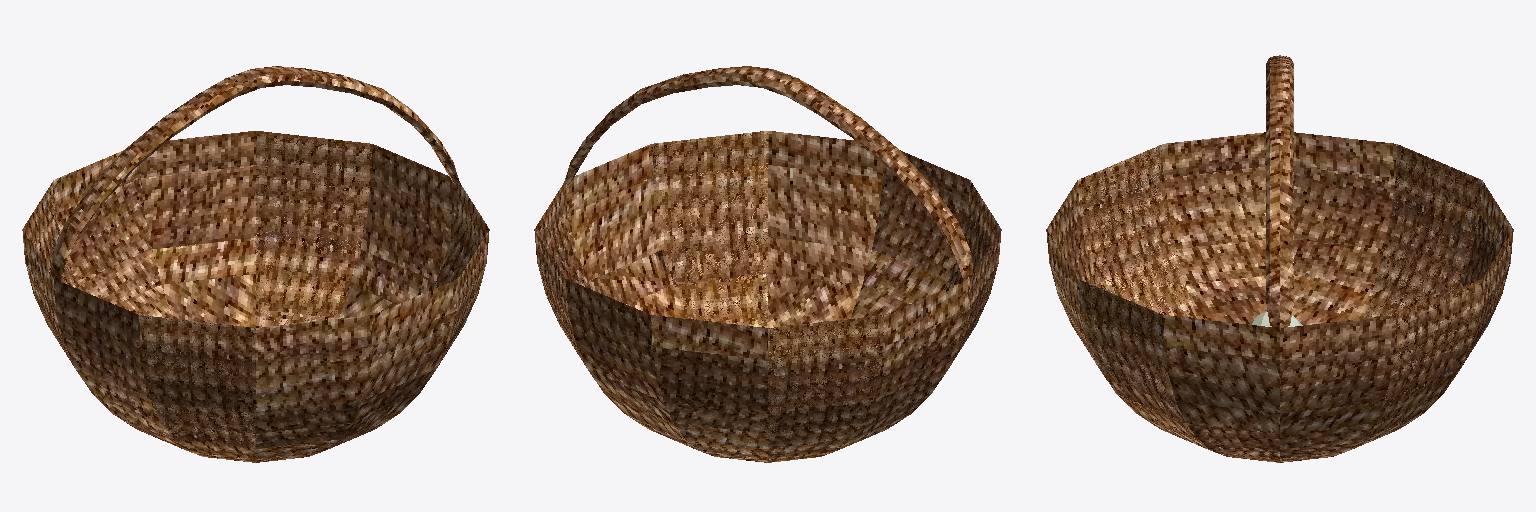
3 renders of one model, left to right at view 1: azimuth 30°, elevation 25°; view 2: azimuth 150°, elevation 25°; view 3: azimuth 270°, elevation 25°, orthographic.
Parts seen in each view (by area): view 1: default; view 2: default; view 3: default.
Part boxes in pixels (bbox=[...]): default: bbox=[22, 66, 489, 462]; default: bbox=[534, 66, 1001, 462]; default: bbox=[1046, 55, 1513, 462].
Bounding box in the file's own units: 0.01 × 0.0087 × 0.01.
1 materials, 1 textured.